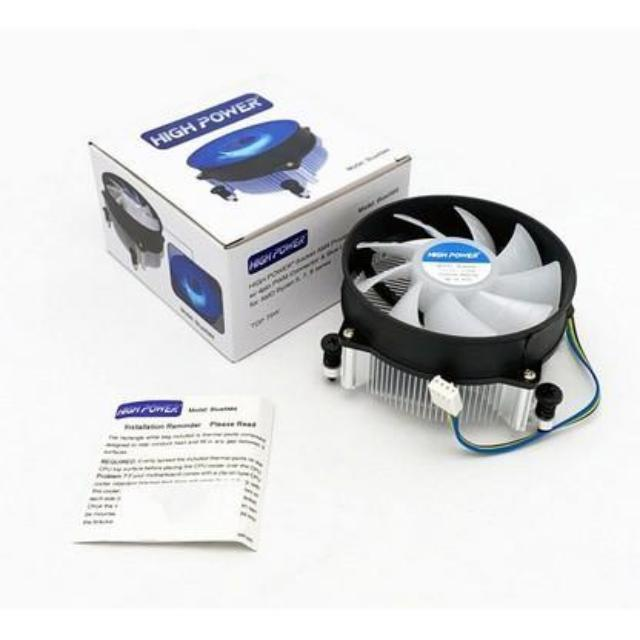CPU_Fan: (336, 192, 562, 424)
